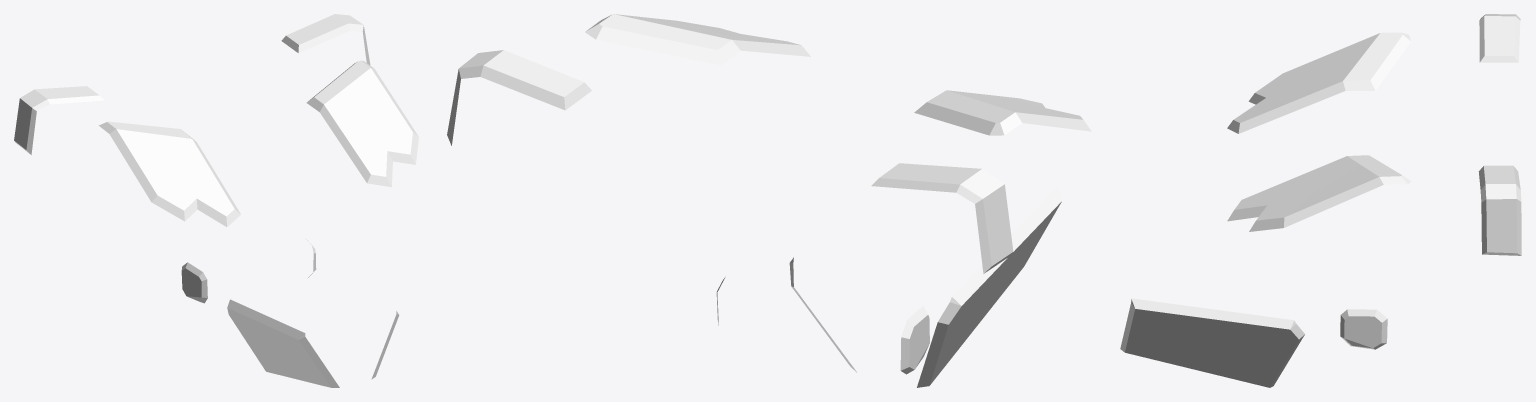
File: p1_cf_assa_01_t1.glb
The picture shows the model from 3 angles, left to right: view 1: azimuth 30°, elevation 25°; view 2: azimuth 150°, elevation 25°; view 3: azimuth 270°, elevation 25°; orthographic projection. The views are drawn at different scales.
Parts seen in each view (by area): view 1: p1_assault_frigate_01_t1_LOD0; view 2: p1_assault_frigate_01_t1_LOD0; view 3: p1_assault_frigate_01_t1_LOD0.
Boxes of the visible parts, left/top/right/bottom form: p1_assault_frigate_01_t1_LOD0: left=14, top=14, right=418, bottom=387; p1_assault_frigate_01_t1_LOD0: left=447, top=14, right=1091, bottom=387; p1_assault_frigate_01_t1_LOD0: left=1120, top=14, right=1521, bottom=387.
Size of what is drawn, in the model's own units: 1.26 by 0.8351 by 1.1.
Materials: 1 (1 with a texture image).
